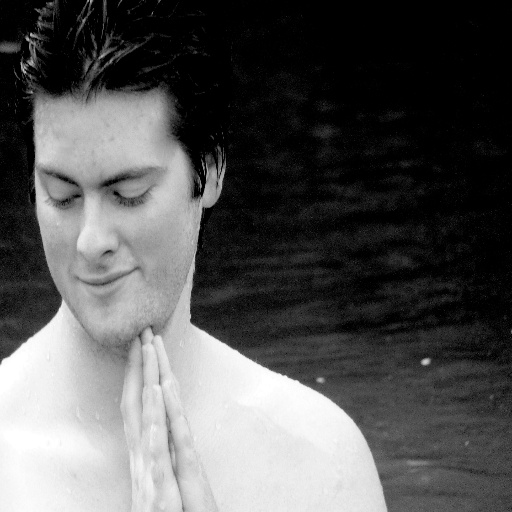hand: (138, 327, 219, 511), (119, 336, 182, 511)
